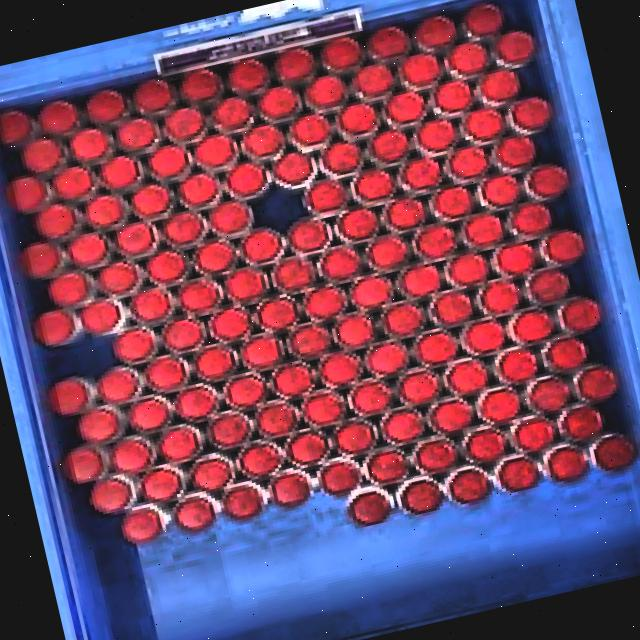vial: (172, 62, 226, 103), (446, 464, 495, 507), (299, 176, 351, 216), (285, 108, 335, 148), (19, 132, 66, 174), (493, 239, 541, 280), (108, 326, 157, 366), (299, 388, 348, 428), (399, 474, 445, 516), (160, 208, 207, 249), (49, 163, 97, 203), (380, 86, 428, 126), (14, 242, 62, 282), (412, 222, 460, 262), (462, 211, 510, 251), (480, 278, 528, 318), (142, 247, 191, 286), (226, 52, 272, 93), (332, 418, 378, 459), (562, 401, 608, 442), (255, 82, 302, 122), (164, 102, 211, 142), (146, 141, 193, 181), (524, 161, 571, 201), (561, 294, 608, 334), (207, 410, 254, 450), (444, 358, 491, 398), (545, 334, 592, 374), (525, 374, 572, 414), (239, 121, 287, 160), (59, 444, 104, 485), (432, 75, 478, 115), (318, 138, 364, 178), (444, 249, 490, 289), (238, 334, 284, 374), (430, 396, 476, 436), (496, 454, 542, 494), (431, 288, 478, 327), (476, 385, 523, 424), (270, 44, 318, 82), (412, 11, 460, 49), (478, 66, 526, 104), (526, 266, 574, 304), (47, 375, 91, 416), (238, 226, 283, 266), (396, 368, 441, 408), (335, 204, 381, 243), (349, 378, 395, 417), (574, 363, 620, 402), (86, 477, 132, 516), (254, 294, 301, 332), (76, 407, 123, 445), (136, 466, 183, 504), (172, 382, 220, 419), (510, 94, 554, 134), (28, 309, 73, 348), (495, 348, 540, 387), (334, 100, 380, 138), (206, 197, 252, 235), (192, 236, 238, 274), (396, 263, 444, 299), (381, 301, 424, 341), (157, 424, 200, 464), (511, 416, 554, 456), (510, 308, 554, 347), (348, 487, 392, 526), (31, 202, 76, 240), (110, 220, 155, 258), (446, 144, 491, 182), (127, 286, 172, 324), (511, 200, 556, 238), (286, 323, 331, 361), (463, 0, 509, 37), (349, 167, 395, 204), (0, 174, 43, 213), (383, 194, 426, 233), (319, 33, 363, 71), (444, 38, 488, 76), (210, 92, 254, 130), (114, 114, 158, 152), (68, 124, 112, 162), (97, 153, 141, 191), (416, 116, 460, 154), (478, 172, 522, 210), (94, 260, 138, 298), (545, 227, 589, 265), (304, 283, 348, 321), (413, 330, 457, 368), (108, 436, 152, 474), (252, 400, 296, 438), (545, 445, 589, 483), (366, 22, 411, 59), (462, 106, 507, 143), (223, 372, 268, 409), (127, 396, 172, 433), (176, 171, 222, 207), (288, 431, 334, 467), (65, 229, 108, 267), (399, 154, 442, 192), (145, 354, 188, 392), (195, 344, 238, 382), (364, 340, 407, 378), (381, 408, 424, 446), (363, 449, 406, 487), (85, 87, 129, 124), (192, 133, 236, 170), (285, 216, 329, 253), (588, 435, 632, 472), (352, 62, 397, 98), (494, 27, 540, 62), (120, 508, 162, 546), (268, 470, 310, 508), (366, 128, 410, 164), (224, 160, 268, 196), (76, 300, 120, 336), (176, 278, 220, 314), (270, 256, 314, 292), (316, 459, 360, 495), (236, 443, 282, 477), (494, 134, 536, 171), (208, 306, 250, 343), (464, 319, 506, 356), (431, 184, 474, 220), (223, 266, 266, 302), (366, 236, 409, 272), (188, 456, 232, 491), (416, 438, 456, 476), (81, 192, 122, 229), (272, 150, 314, 186), (48, 271, 90, 307), (271, 362, 314, 397), (336, 311, 376, 348), (222, 483, 262, 520), (398, 50, 439, 86), (318, 352, 359, 388), (318, 245, 360, 280), (96, 367, 138, 402), (349, 274, 392, 308), (38, 98, 78, 134), (132, 76, 172, 112), (130, 182, 170, 218), (160, 318, 205, 350), (172, 497, 213, 532), (306, 74, 346, 108), (464, 428, 501, 461), (0, 109, 31, 147)
